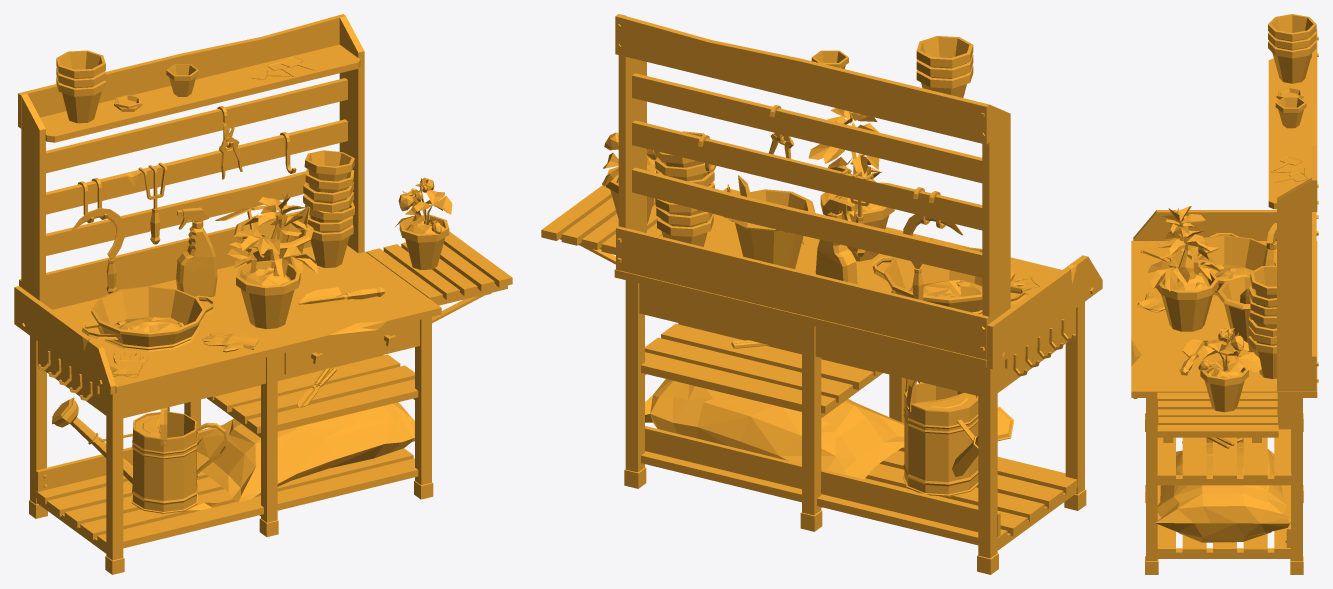
The model's file is SM_Table_Potting_A_Full.fbx.
3 renders of one model, left to right at view 1: azimuth 30°, elevation 25°; view 2: azimuth 150°, elevation 25°; view 3: azimuth 270°, elevation 25°, orthographic. The views are drawn at different scales.
Parts seen in each view (by area): view 1: table-potting-a-full-base, table-potting-a-full-drawer; view 2: table-potting-a-full-base; view 3: table-potting-a-full-base.
Boxes of the visible parts, x1,y1,x2,y2 form: table-potting-a-full-base: (14, 14, 512, 574); table-potting-a-full-drawer: (284, 321, 412, 374); table-potting-a-full-base: (541, 14, 1102, 574); table-potting-a-full-base: (1131, 14, 1318, 574).
Bounding box in the file's own units: 1.97 × 2.01 × 0.8047.
